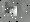person: (3, 4, 9, 17), (11, 7, 17, 17)
